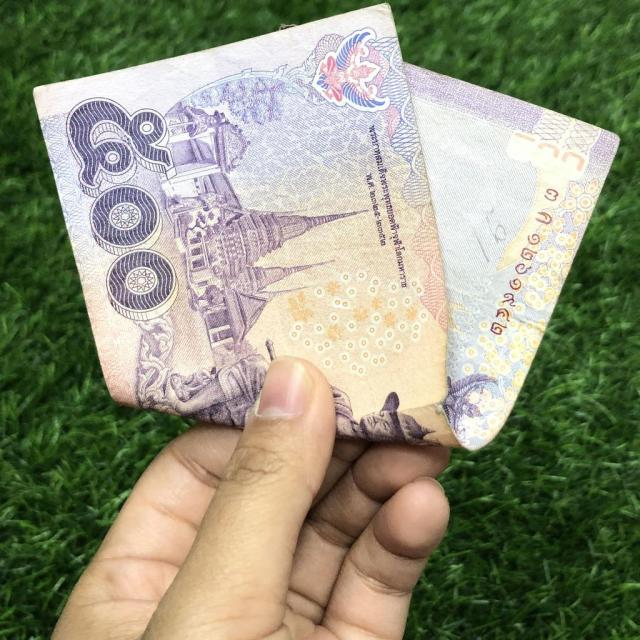THAI500: (32, 4, 619, 453)
